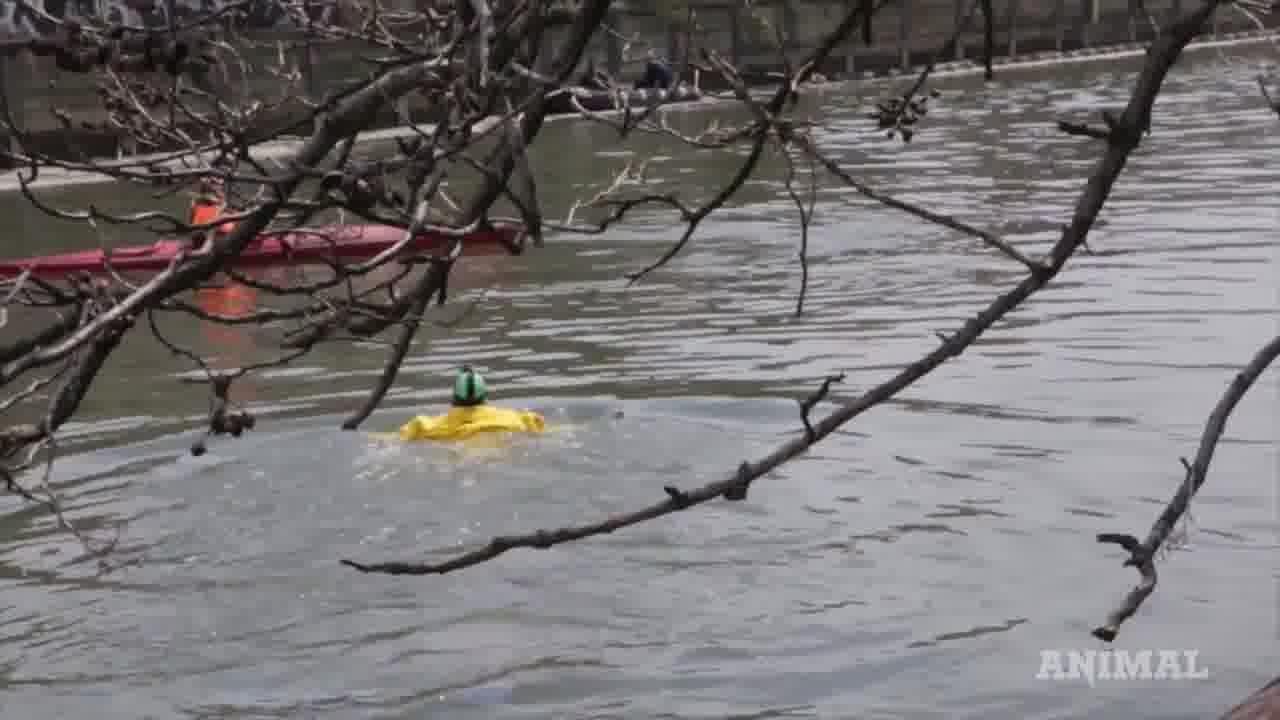human: (391, 352, 519, 459)
